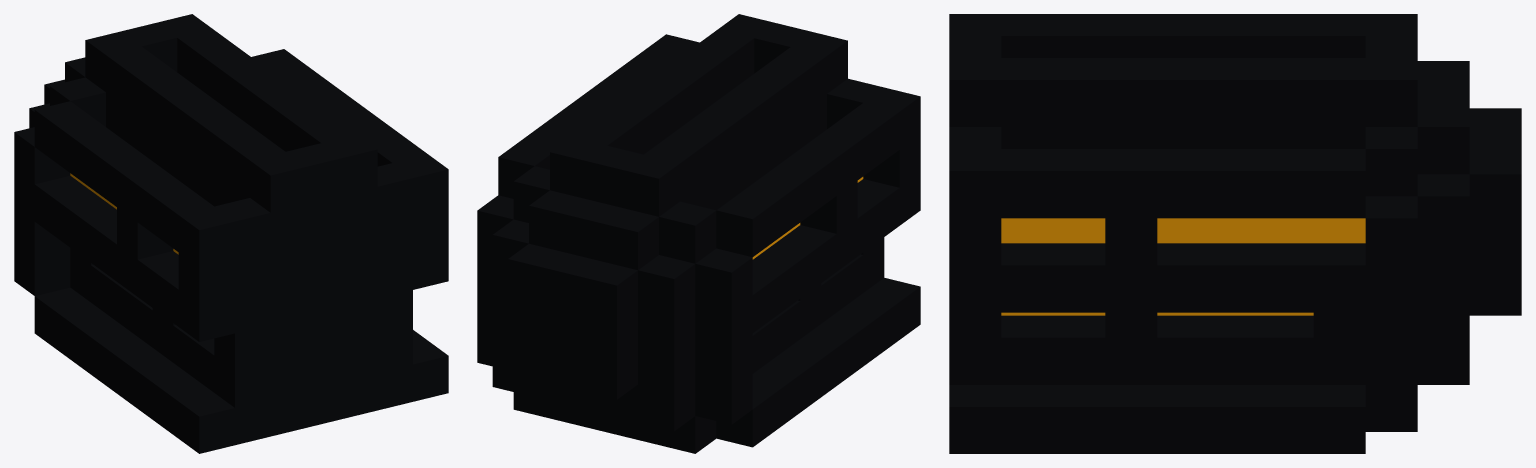
The model's file is BackSmall1.FBX.
3 renders of one model, left to right at view 1: azimuth 30°, elevation 25°; view 2: azimuth 150°, elevation 25°; view 3: azimuth 270°, elevation 25°, orthographic. The views are drawn at different scales.
Visible parts, largest first — view 1: BackSmall1; view 2: BackSmall1; view 3: BackSmall1.
Part boxes in pixels (x1,y1,x2,y2): BackSmall1: (14,14,448,453); BackSmall1: (477,14,920,453); BackSmall1: (949,14,1521,453).
Size of the model in its own units: 7 by 11 by 7.
